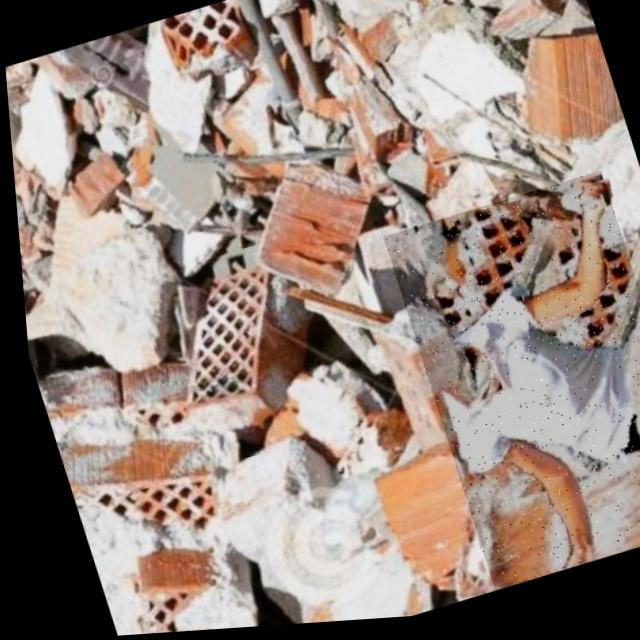Person in Rubble: (374, 173, 640, 600)
